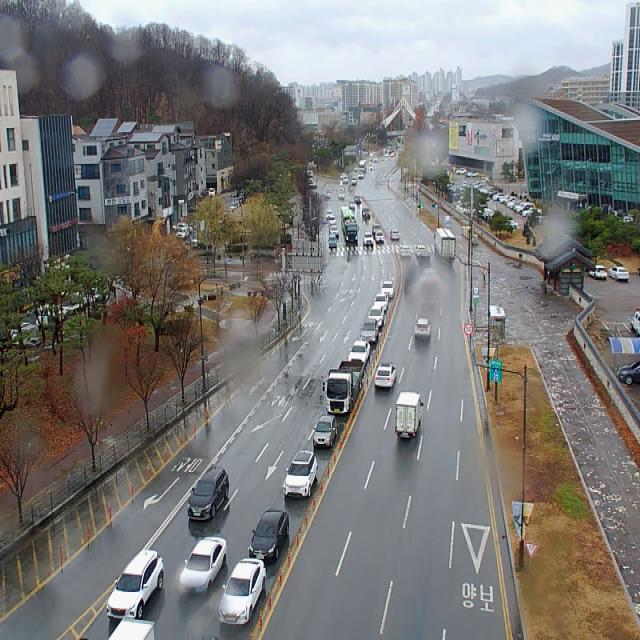Bus: (342, 210, 354, 230)
Car: (107, 549, 164, 618), (219, 558, 266, 624), (180, 536, 227, 594), (188, 466, 229, 520), (249, 510, 289, 563), (284, 452, 317, 498), (108, 616, 156, 640), (313, 415, 338, 447), (374, 362, 396, 387), (349, 341, 370, 365), (619, 361, 640, 385), (360, 318, 378, 342), (368, 305, 384, 326), (415, 318, 431, 338), (608, 267, 629, 281), (588, 266, 607, 280), (374, 293, 388, 311), (382, 281, 394, 298), (363, 232, 374, 246), (177, 226, 189, 238), (328, 234, 337, 248), (330, 226, 339, 238), (376, 231, 384, 244), (390, 230, 400, 240), (372, 224, 380, 236), (328, 216, 336, 228), (362, 208, 370, 219), (209, 187, 215, 197), (355, 195, 362, 203), (327, 209, 332, 218), (352, 178, 357, 187), (358, 172, 364, 178), (342, 206, 348, 210)
Truck: (323, 361, 364, 414), (396, 393, 423, 438), (434, 229, 456, 259), (345, 224, 359, 246), (630, 309, 640, 336), (359, 160, 367, 172)
